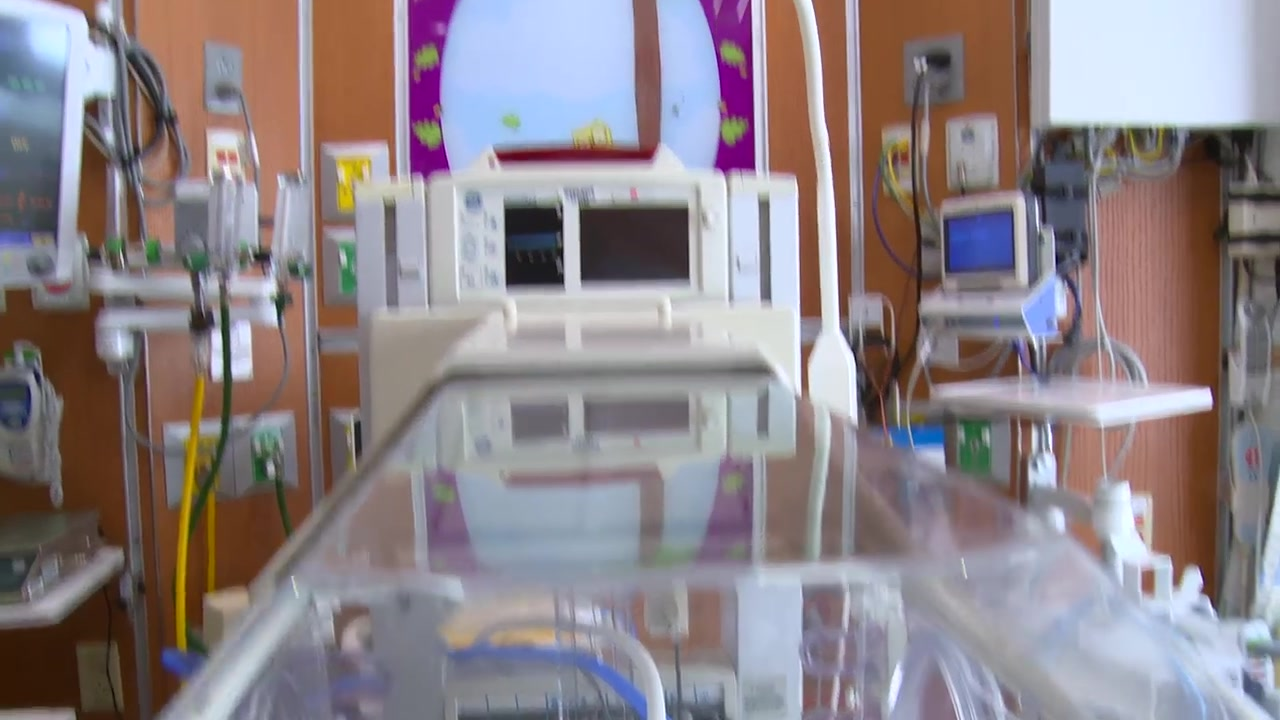bedside_monitor: (1, 1, 86, 286), (937, 186, 1036, 296)
incubator: (159, 333, 1123, 717)
